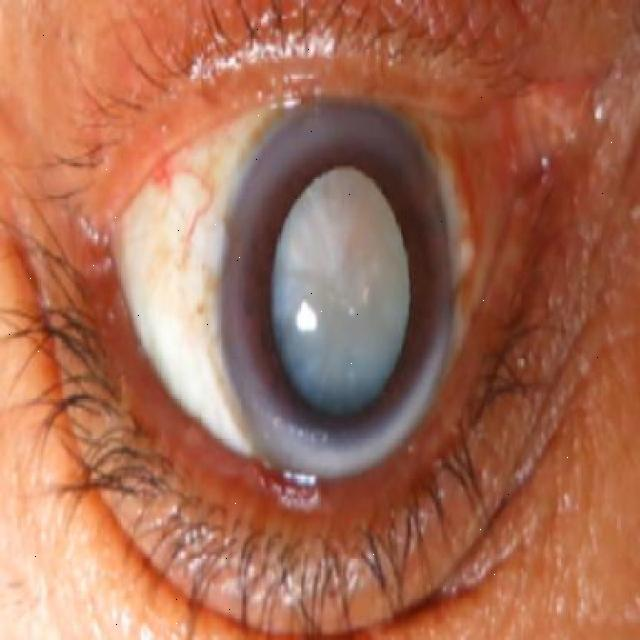Cataract: (221, 96, 451, 478)
